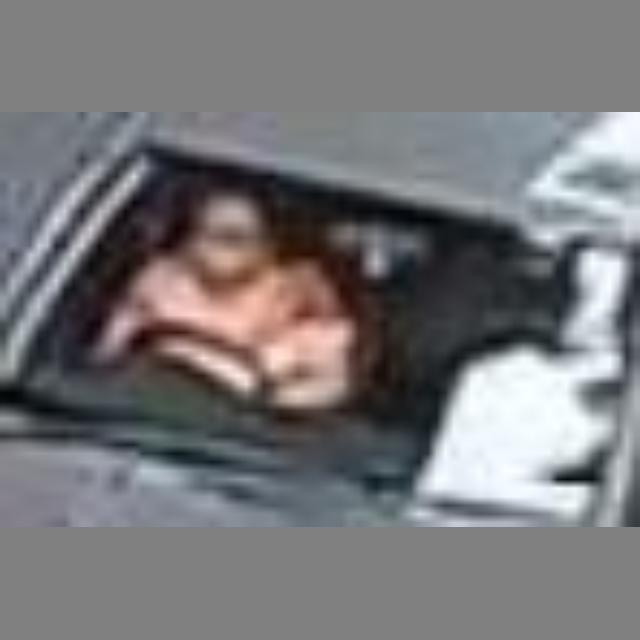tidak-pakai: (112, 181, 355, 415)
